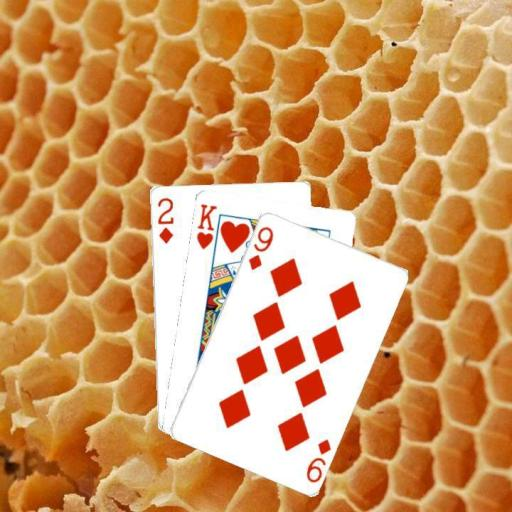card-corner: (302, 435, 333, 484), (245, 222, 275, 272), (193, 200, 218, 250), (154, 194, 174, 245)
